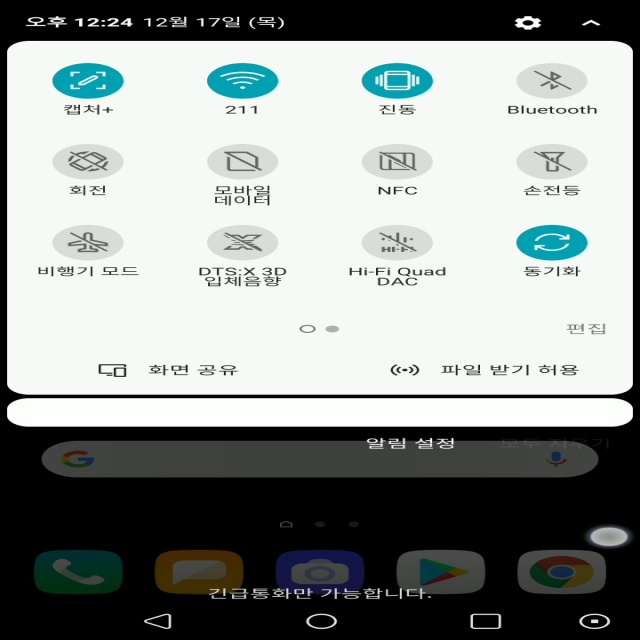Cursor: (587, 526, 632, 548)
